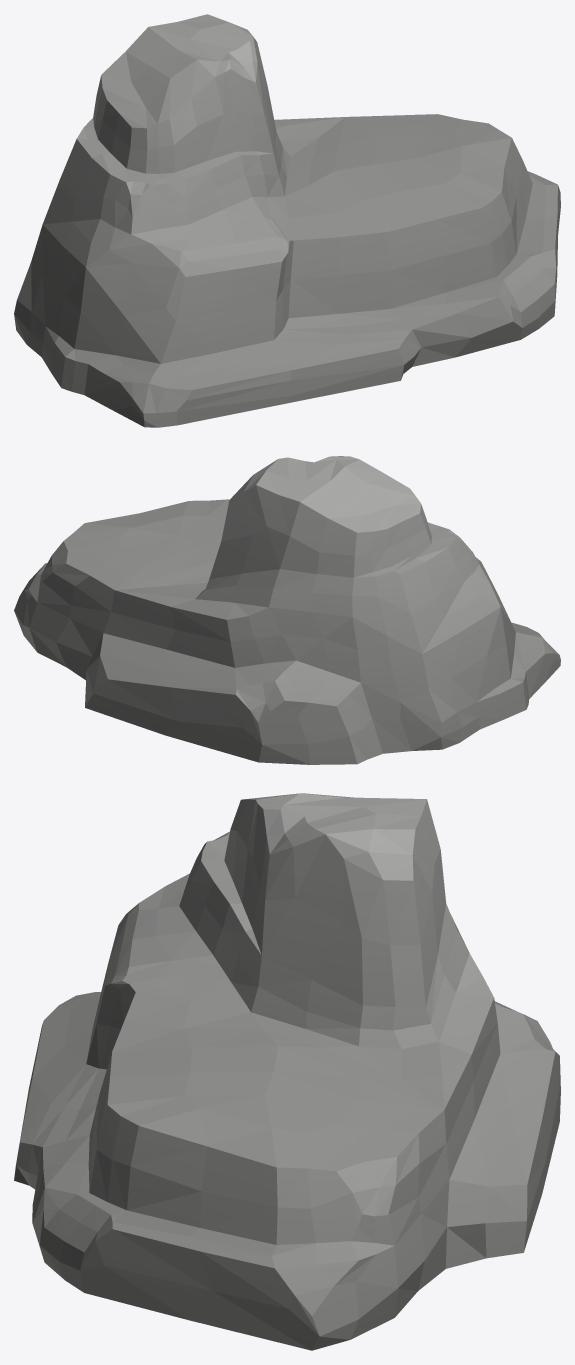
File: Cavern_RockCliff-03.fbx
3 renders of one model, top to bottom at view 1: azimuth 30°, elevation 25°; view 2: azimuth 150°, elevation 25°; view 3: azimuth 270°, elevation 25°, orthographic. The views are drawn at different scales.
Visible parts, largest first — view 1: Cavern_RockCliff-03; view 2: Cavern_RockCliff-03; view 3: Cavern_RockCliff-03.
Part boxes in pixels (<box>): Cavern_RockCliff-03: <box>14,14,560,427</box>; Cavern_RockCliff-03: <box>14,456,560,764</box>; Cavern_RockCliff-03: <box>14,793,560,1350</box>.
Bounding box in the file's own units: 1843 × 863 × 1274.
1 material, 1 textured.
